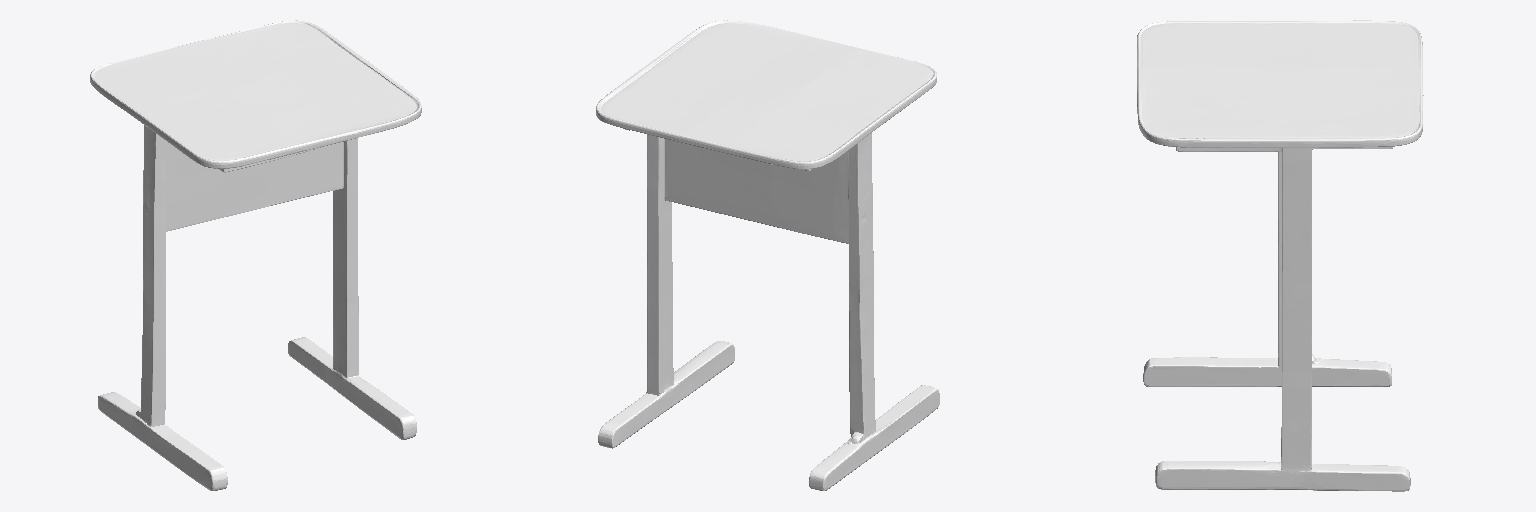
URDF robot description (mesa):
<robot name="mesa">
	<link name="_name">
		<visual>
			<origin xyz="0 0 0.51" rpy="1.5708 0 0" />
			<geometry>
				<mesh filename="010_mesa_pequena/mesa_pequena.obj" scale="1.0 1.0 1.0" />
			</geometry>
			<material name="texture">
				<color rgba="1.0 1.0 1.0 1.0" />
			</material>
		</visual>
		<collision>
			<geometry>
				<mesh filename="010_mesa_pequena/mesa_pequena.obj" scale="1.0 1.0 1.0" />
			</geometry>
		<origin xyz="0 0 0.51" rpy="1.5708 0 0" /></collision>
		<inertial>
			<mass value="1.0" />
			<inertia ixx="1.0" ixy="0.0" ixz="0.0" iyy="1.0" iyz="0.0" izz="1.0" />
		</inertial>
	</link>
</robot>

--- What the picture shows (computed from the rendered views, not written in the file) ---
The picture shows the robot from 3 angles, left to right: view 1: azimuth 30°, elevation 25°; view 2: azimuth 150°, elevation 25°; view 3: azimuth 270°, elevation 25°; orthographic projection.
Model mesa with 1 links and 0 joints (none), rooted at _name, posed all joints at 0.
Links seen in each view (by area): view 1: _name; view 2: _name; view 3: _name.
Boxes of the visible links, x1,y1,x2,y2 form: _name: (90, 20, 421, 490); _name: (596, 20, 939, 490); _name: (1137, 20, 1423, 491).
Size in the robot's own frame: 0.7212 by 0.728 by 0.9999 metres.
1 mesh visuals loaded from 1 distinct referenced files (1 OBJ).
